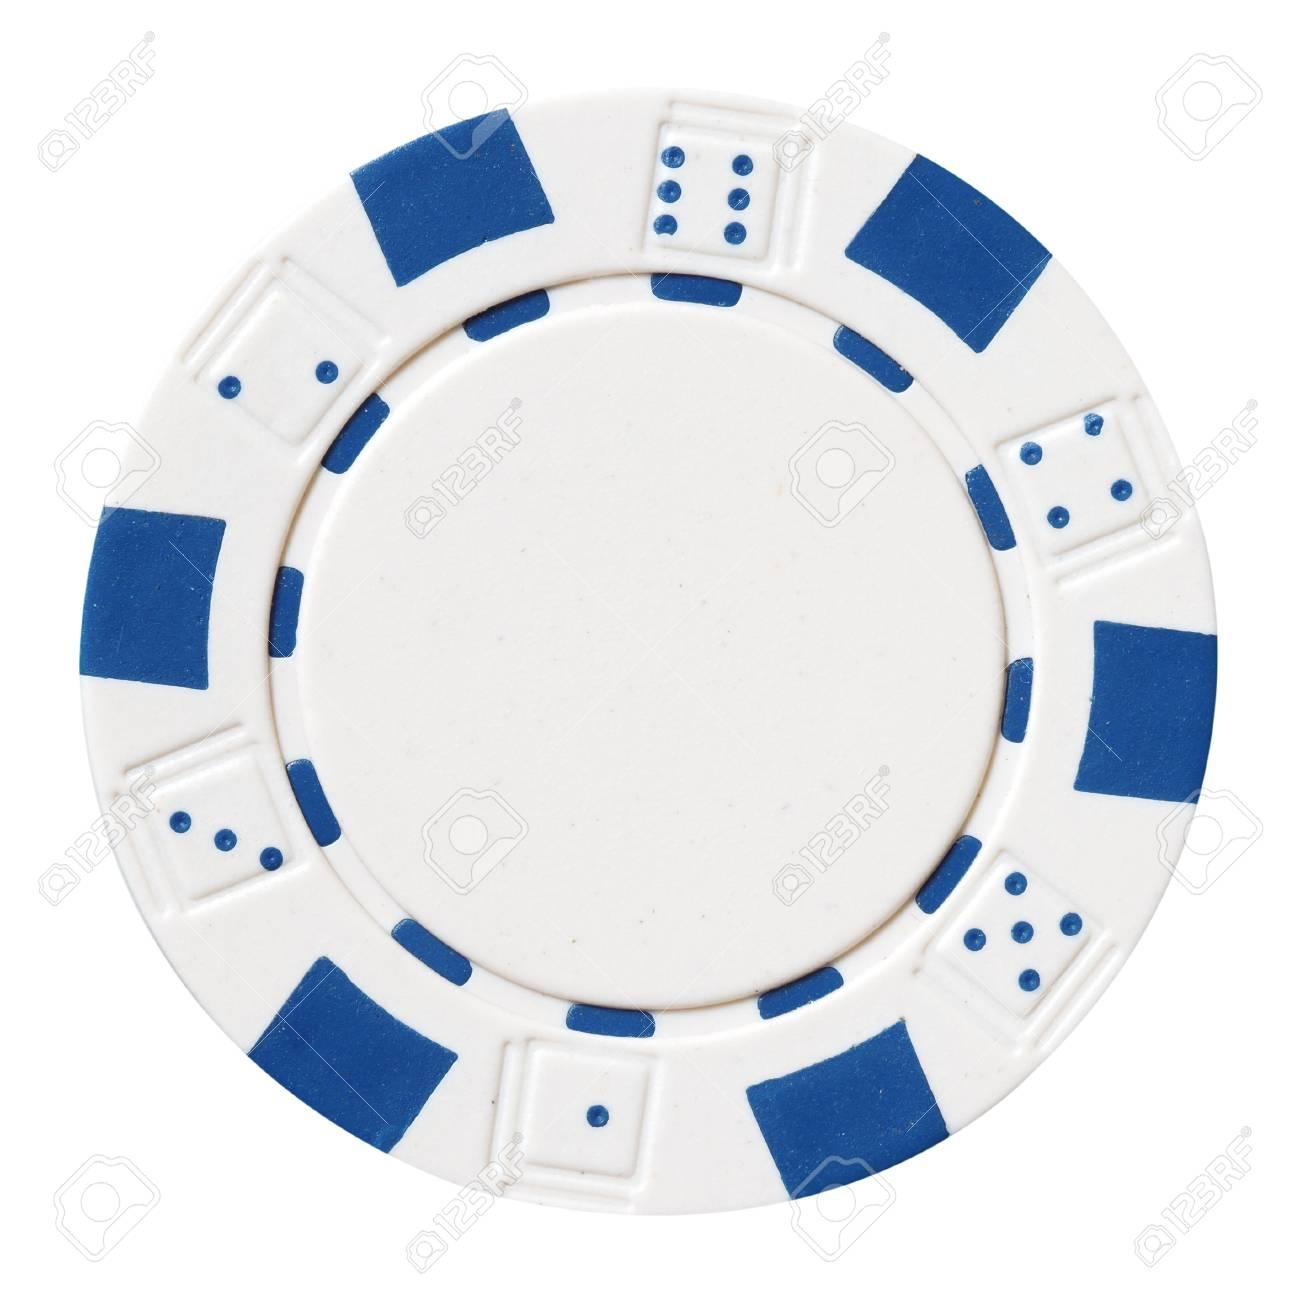chip-white: (81, 92, 1217, 1213)
